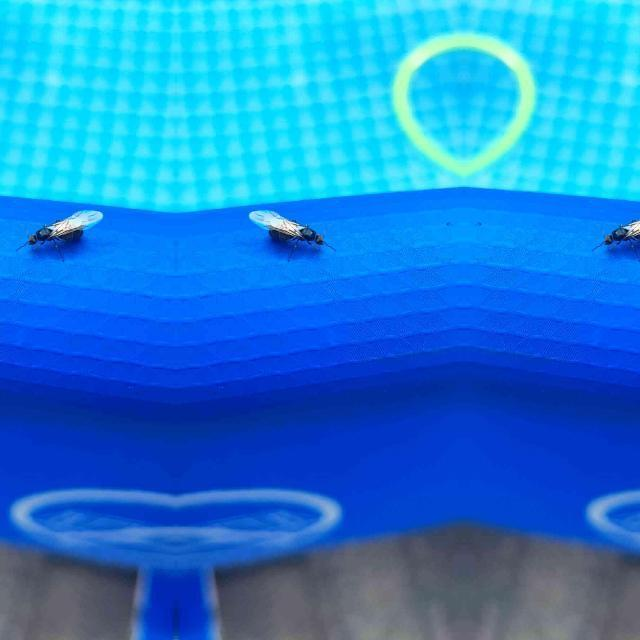Lasius: (258, 206, 332, 258), (18, 206, 92, 258), (592, 206, 640, 258)
